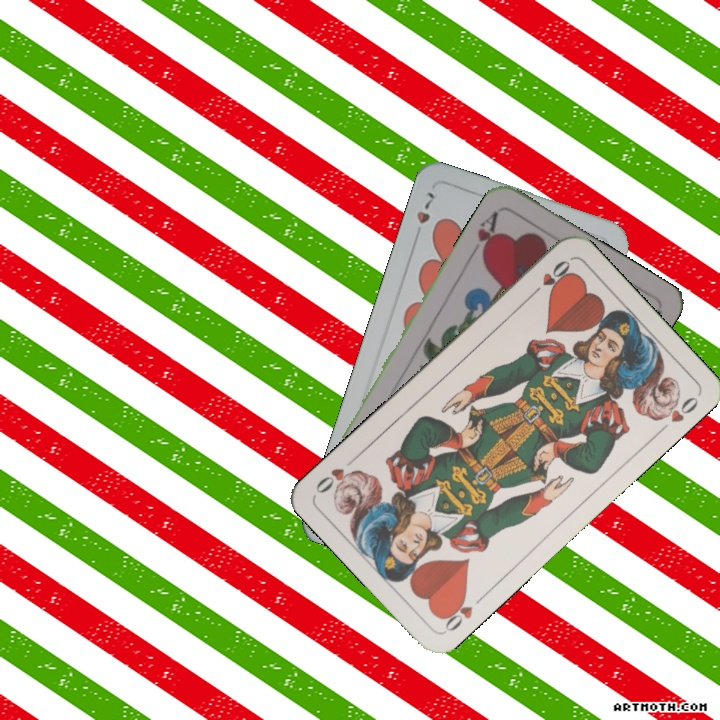H7: (412, 187, 438, 226)
HA: (466, 207, 501, 263)
HO: (436, 590, 488, 635), (526, 255, 573, 300)
